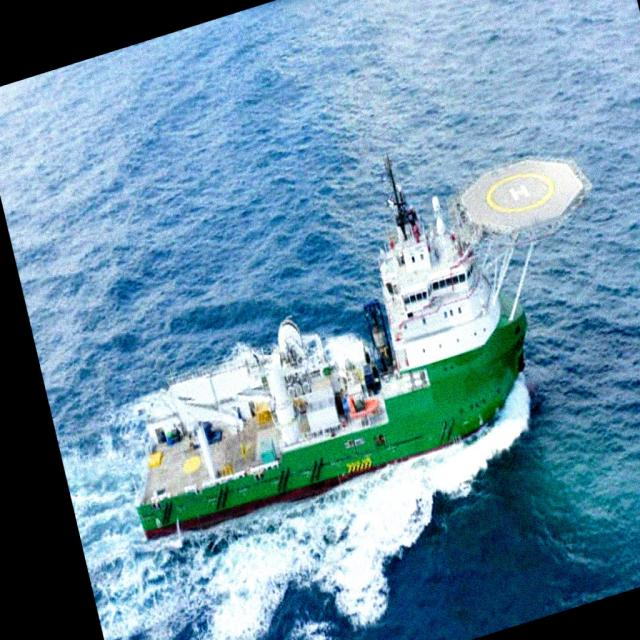helipad: (483, 170, 553, 213)
